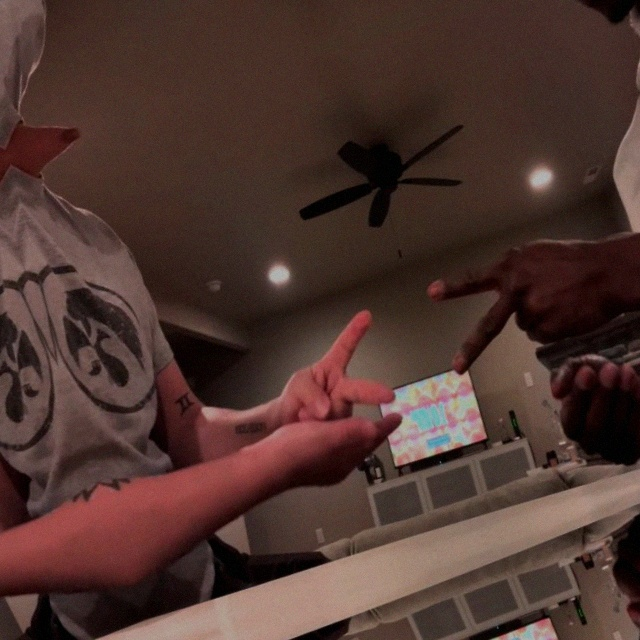Scissors: (413, 206, 640, 388), (248, 303, 406, 444)
